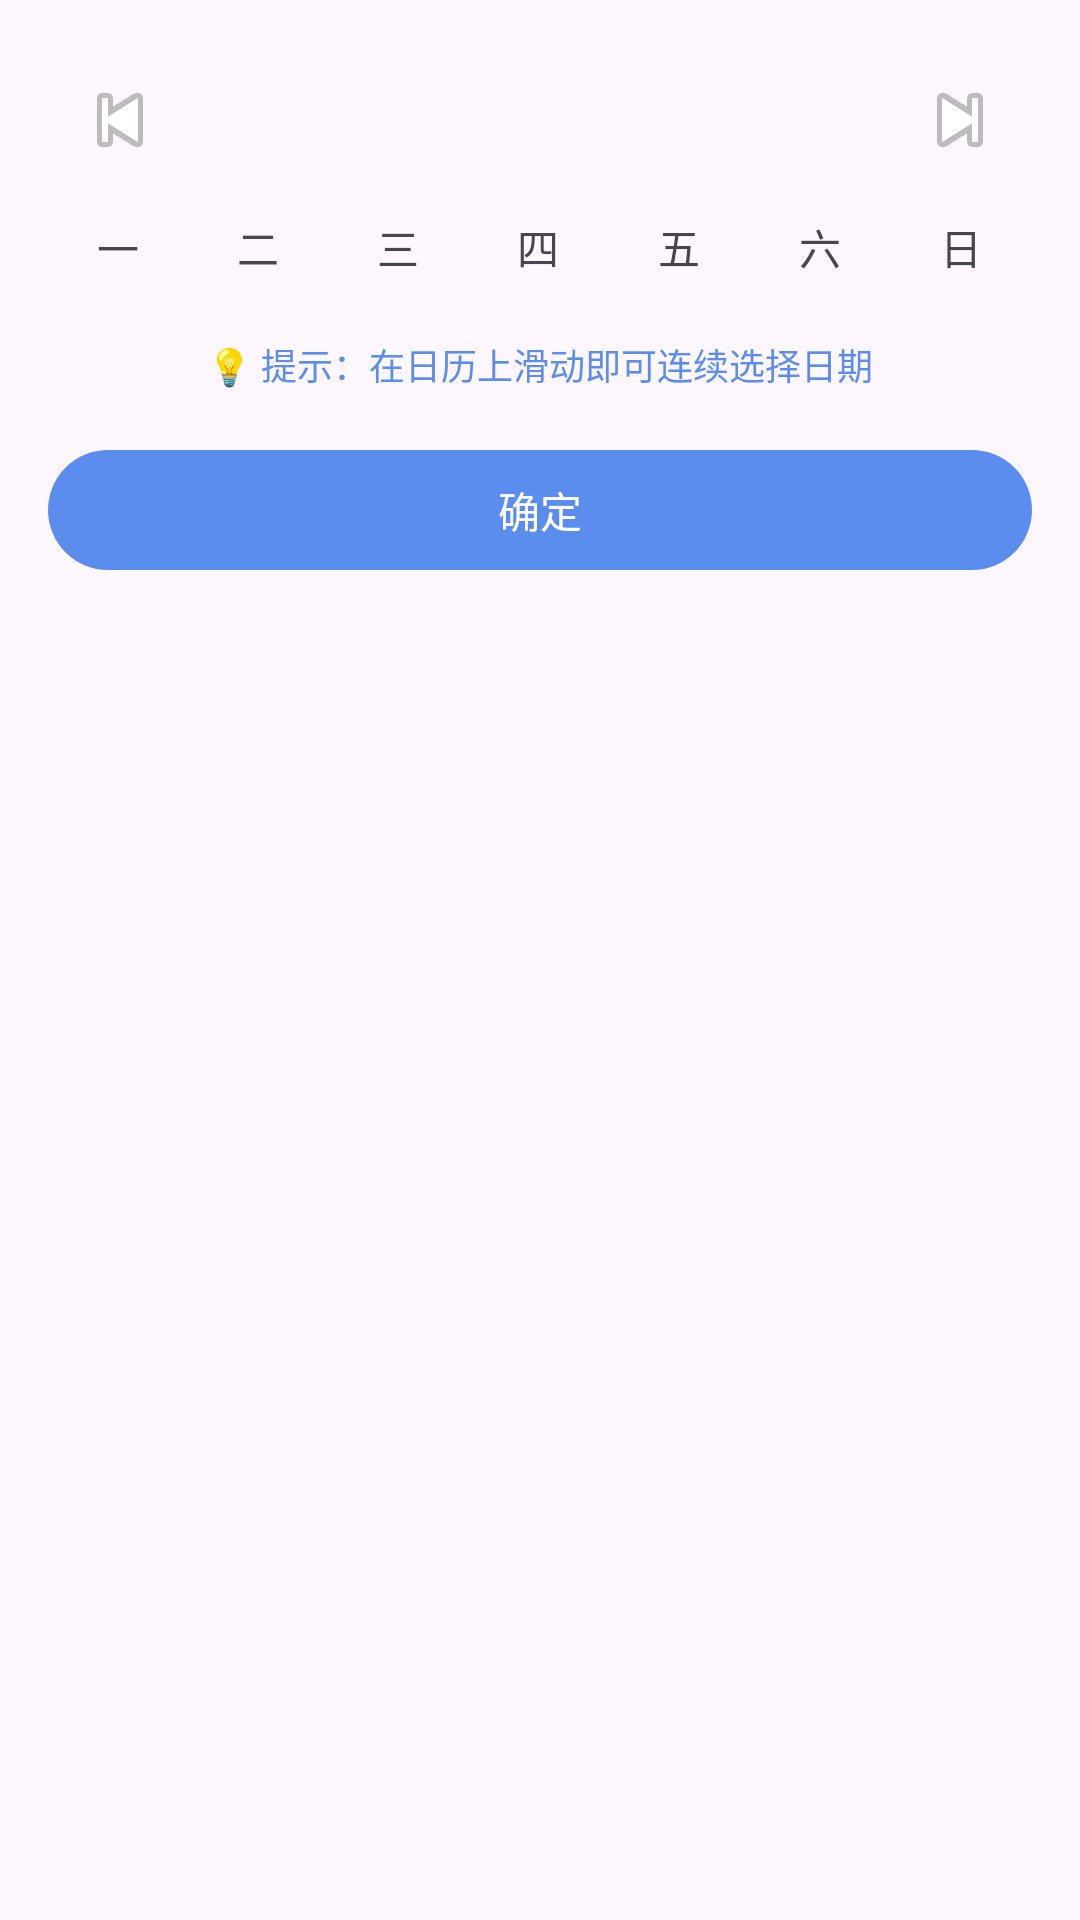

Icon bounding boxes for this 1080 x 1920 phone screenshot, format (x1, y1, x2, y2):
next: (937, 93, 983, 147)
previous: (97, 93, 143, 147)
